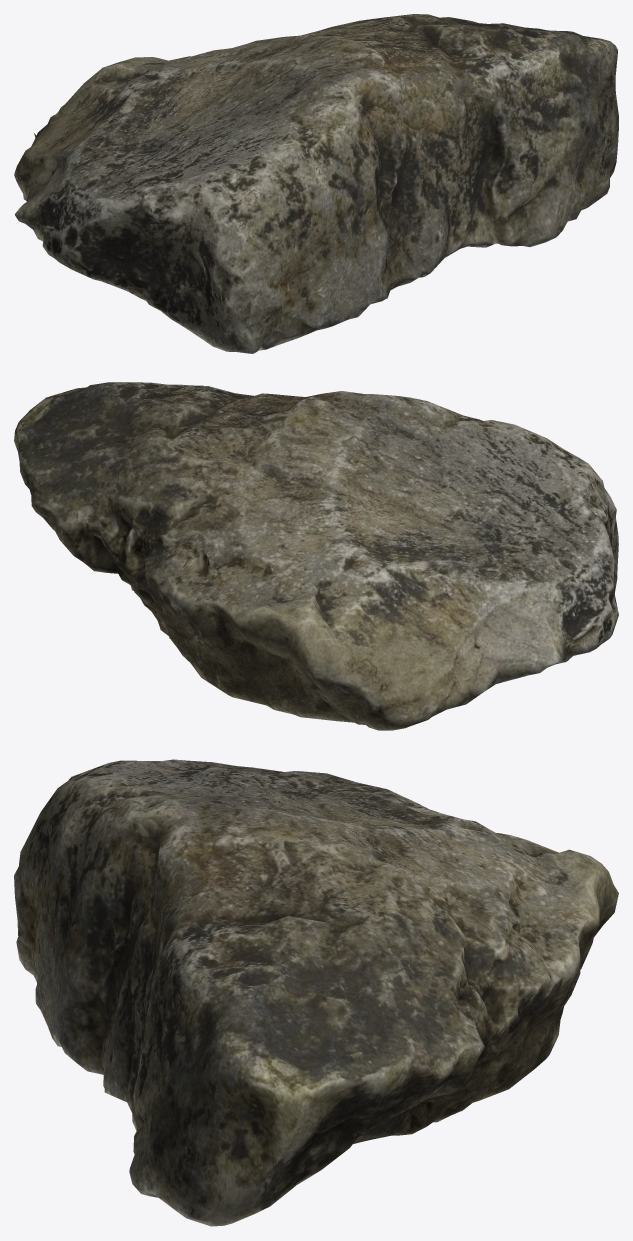
Rendered from rock_moss_02_r10.glb.
3 views of the same model, one above another, from view 1: azimuth 30°, elevation 25°; view 2: azimuth 150°, elevation 25°; view 3: azimuth 270°, elevation 25° (orthographic). The views are drawn at different scales.
Parts seen in each view (by area): view 1: rock_moss_02_r10_LOD0; view 2: rock_moss_02_r10_LOD0; view 3: rock_moss_02_r10_LOD0.
Part boxes in pixels (x1,y1,x2,y2): rock_moss_02_r10_LOD0: [14, 14, 618, 353]; rock_moss_02_r10_LOD0: [14, 382, 618, 730]; rock_moss_02_r10_LOD0: [14, 759, 618, 1226].
Size of what is drawn, in the model's own units: 2.2 by 0.7684 by 1.55.
Materials: 1 (1 with a texture image).
